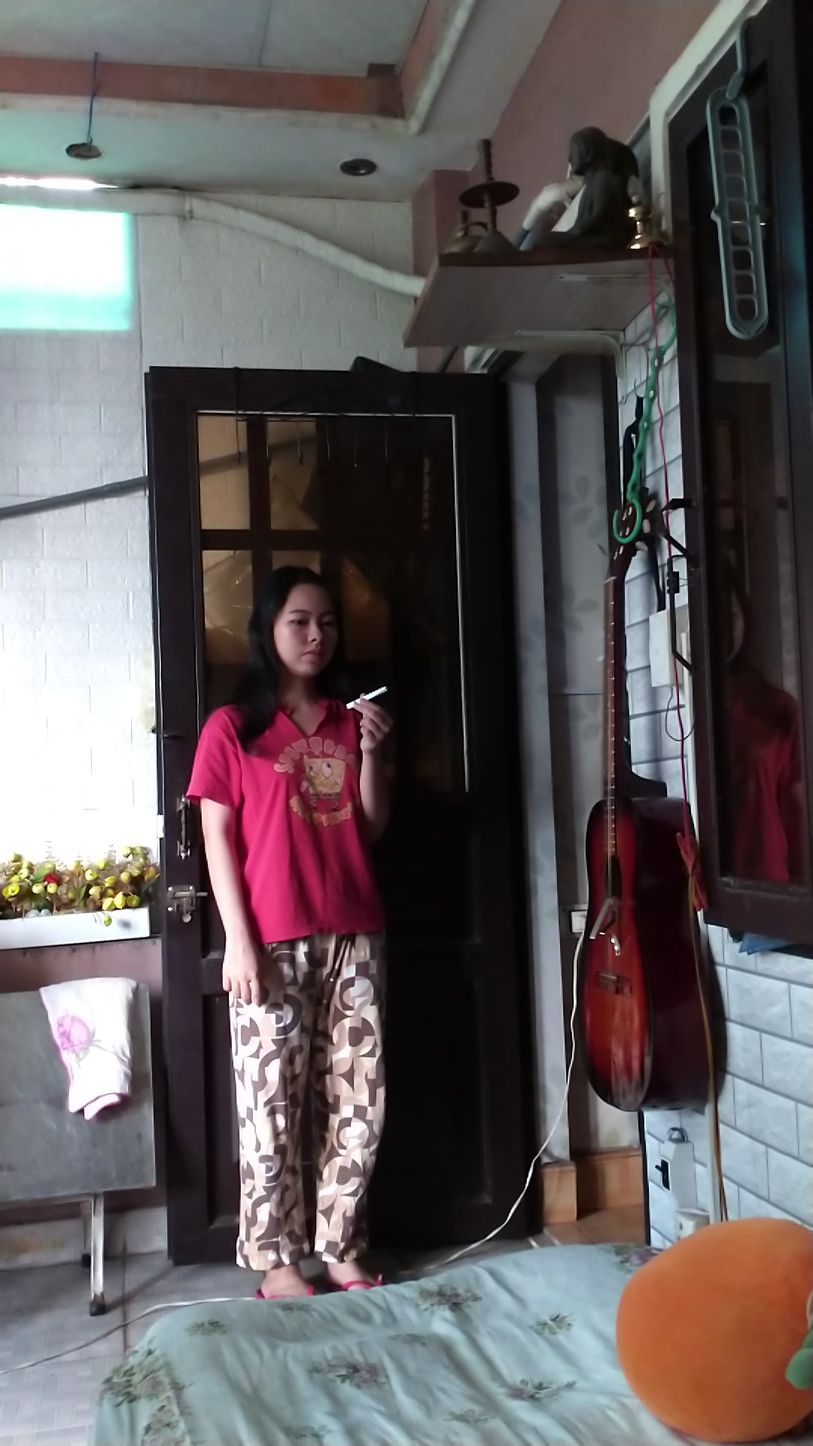cigarette: (361, 683, 393, 703)
person: (184, 536, 400, 1298)
